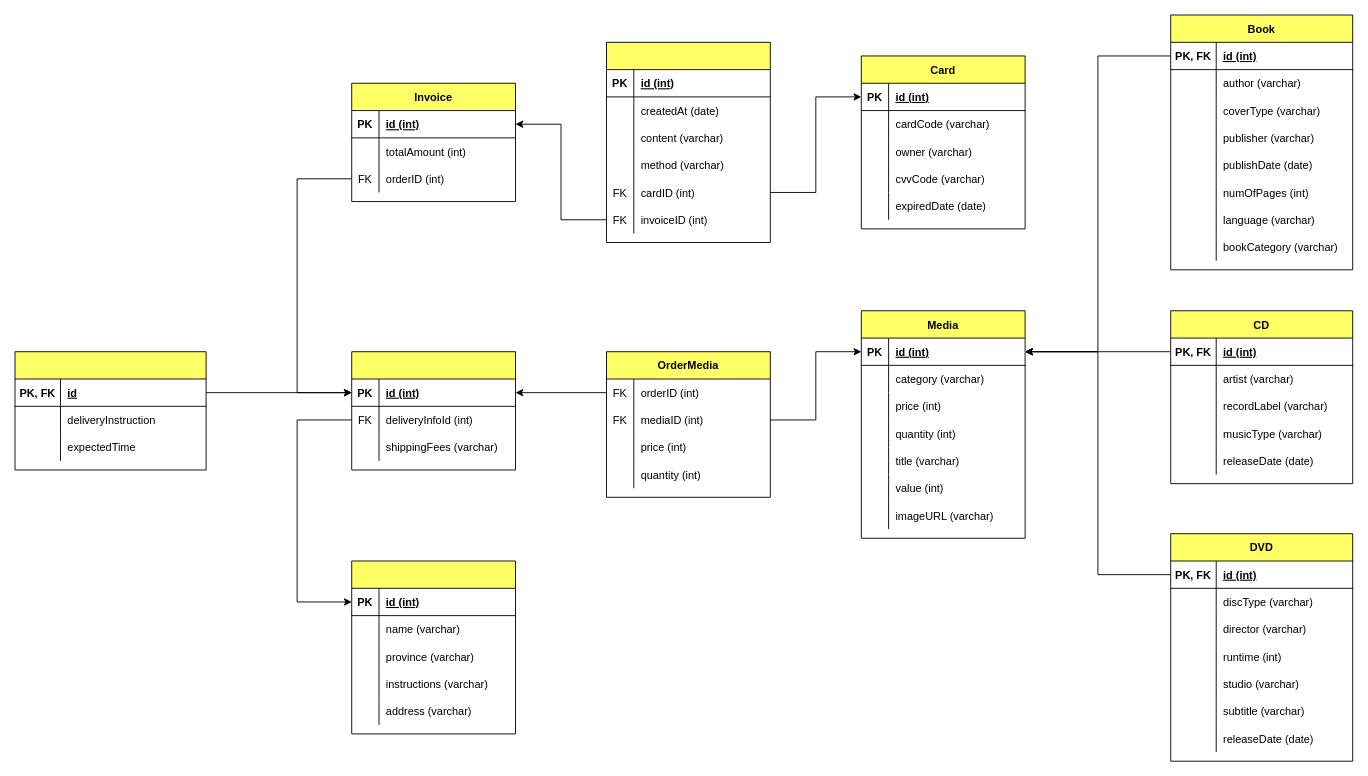
This 1368x776 diagram has some shape labels left out. The box of each missing label's shape, as (x1, y1, x2, y2) in pixels:
DeliveryInfo: (351, 560, 516, 734)
Order: (351, 351, 516, 470)
PaymentTransaction: (606, 41, 770, 243)
RushOrder: (14, 351, 206, 470)
